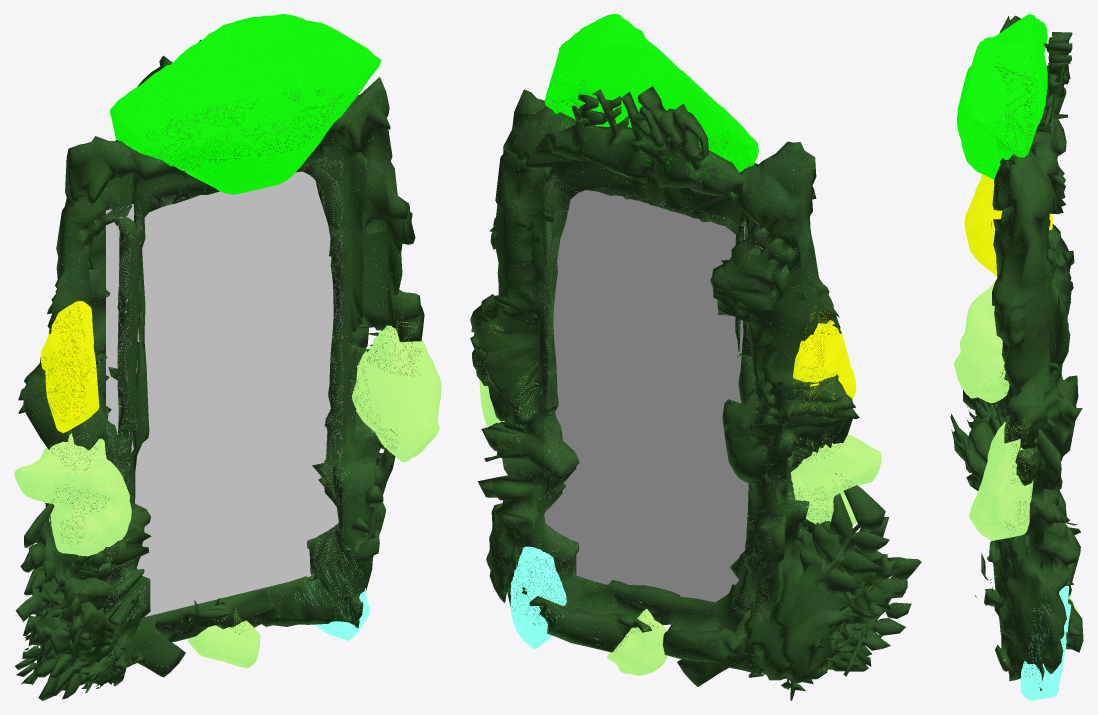
File: merr.glb
The picture shows the model from 3 angles, left to right: view 1: azimuth 30°, elevation 25°; view 2: azimuth 150°, elevation 25°; view 3: azimuth 270°, elevation 25°; orthographic projection. The views are drawn at different scales.
Parts seen in each view (by area): view 1: Layer_1001, Plane, Layer_2002, Layer_2004, Layer_2005, Layer_2003, Layer_2007, Layer_2006; view 2: Layer_1001, Plane, Layer_2002, Layer_2004, Layer_2006, Layer_2003, Layer_2007; view 3: Layer_1001, Layer_2002, Layer_2005, Layer_2004, Layer_2003, Layer_2006.
Boxes of the visible parts, x1,y1,x2,y2 form: Layer_1001: (15, 39, 424, 700); Plane: (106, 157, 343, 619); Layer_2002: (110, 14, 380, 194); Layer_2004: (14, 433, 131, 556); Layer_2005: (350, 319, 441, 462); Layer_2003: (40, 301, 99, 432); Layer_2007: (188, 615, 260, 668); Layer_2006: (295, 546, 370, 640); Layer_1001: (470, 80, 921, 700); Plane: (544, 175, 770, 622); Layer_2002: (544, 14, 758, 177); Layer_2004: (787, 434, 881, 524); Layer_2006: (510, 546, 566, 648); Layer_2003: (793, 294, 856, 418); Layer_2007: (607, 609, 667, 675); Layer_1001: (950, 15, 1083, 691); Layer_2002: (956, 14, 1047, 179); Layer_2005: (969, 419, 1036, 540); Layer_2004: (954, 282, 1009, 403); Layer_2003: (964, 174, 1052, 276); Layer_2006: (1020, 586, 1071, 700).
Size of the model in its own units: 1.24 by 1.74 by 0.3306.
